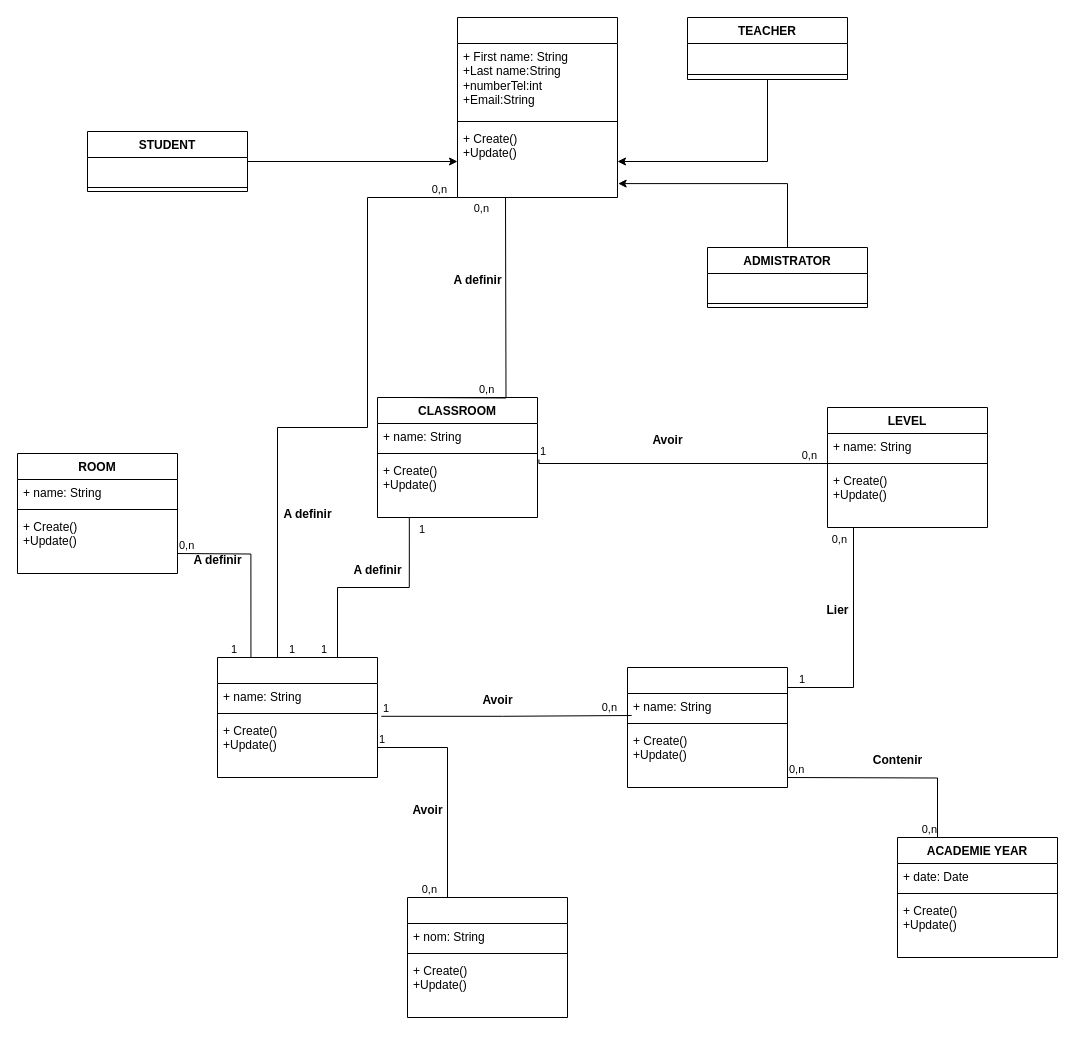
The diagram is 1075 pixels wide and 1038 high, and some of its shapes have lost their labels. Each missing label, with the box of its shape:
COURSES: (626, 666, 788, 788)
COURSES SESSION: (216, 656, 378, 778)
TIME TABLE: (406, 896, 568, 1018)
USER: (456, 16, 618, 198)
